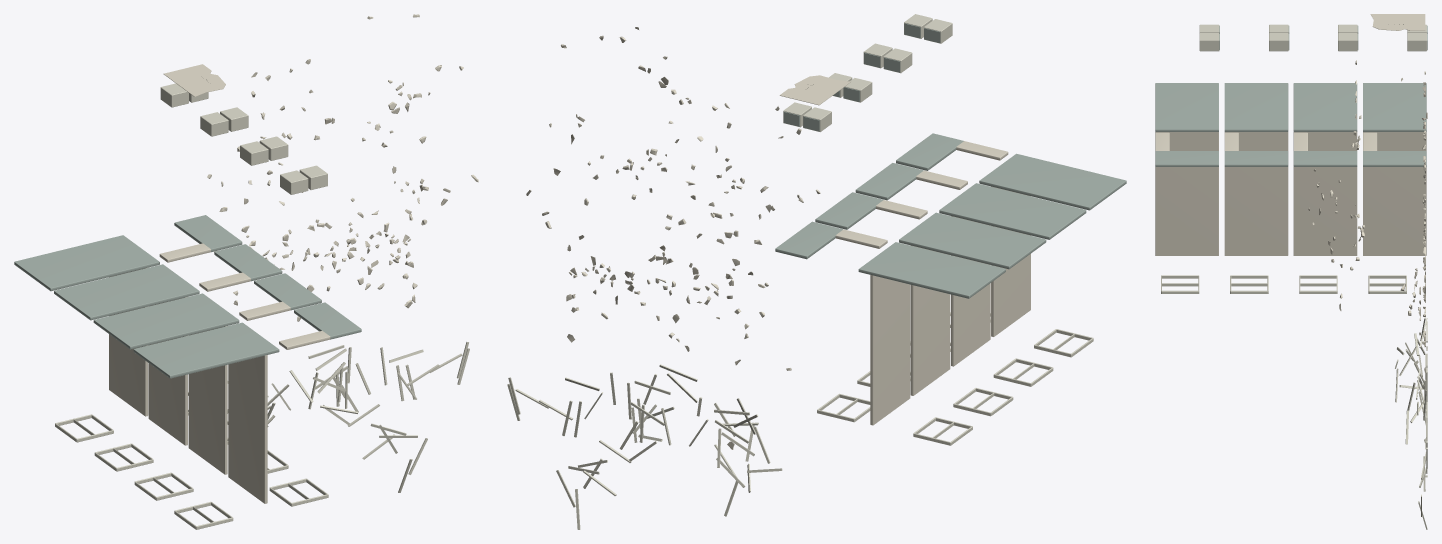
File: visual_finish.glb
3 renders of one model, left to right at view 1: azimuth 30°, elevation 25°; view 2: azimuth 150°, elevation 25°; view 3: azimuth 270°, elevation 25°, orthographic. The views are drawn at different scales.
Parts seen in each view (by area): view 1: Apartment_Paint, Apartment_Plaster, Apartment_Ivory; view 2: Apartment_Paint, Apartment_Plaster, Apartment_Ivory; view 3: Apartment_Plaster, Apartment_Paint, Apartment_Ivory.
Boxes of the visible parts, left/top/right/bottom form: Apartment_Paint: left=14, top=215, right=361, bottom=378; Apartment_Plaster: left=109, top=14, right=478, bottom=503; Apartment_Ivory: left=55, top=83, right=469, bottom=529; Apartment_Paint: left=775, top=23, right=1126, bottom=298; Apartment_Plaster: left=526, top=27, right=1030, bottom=449; Apartment_Ivory: left=507, top=14, right=1093, bottom=529; Apartment_Plaster: left=1155, top=14, right=1427, bottom=373; Apartment_Paint: left=1155, top=25, right=1427, bottom=166; Apartment_Ivory: left=1161, top=24, right=1427, bottom=529.
Bounding box in the file's own units: 20.85 × 21.75 × 12.4.
